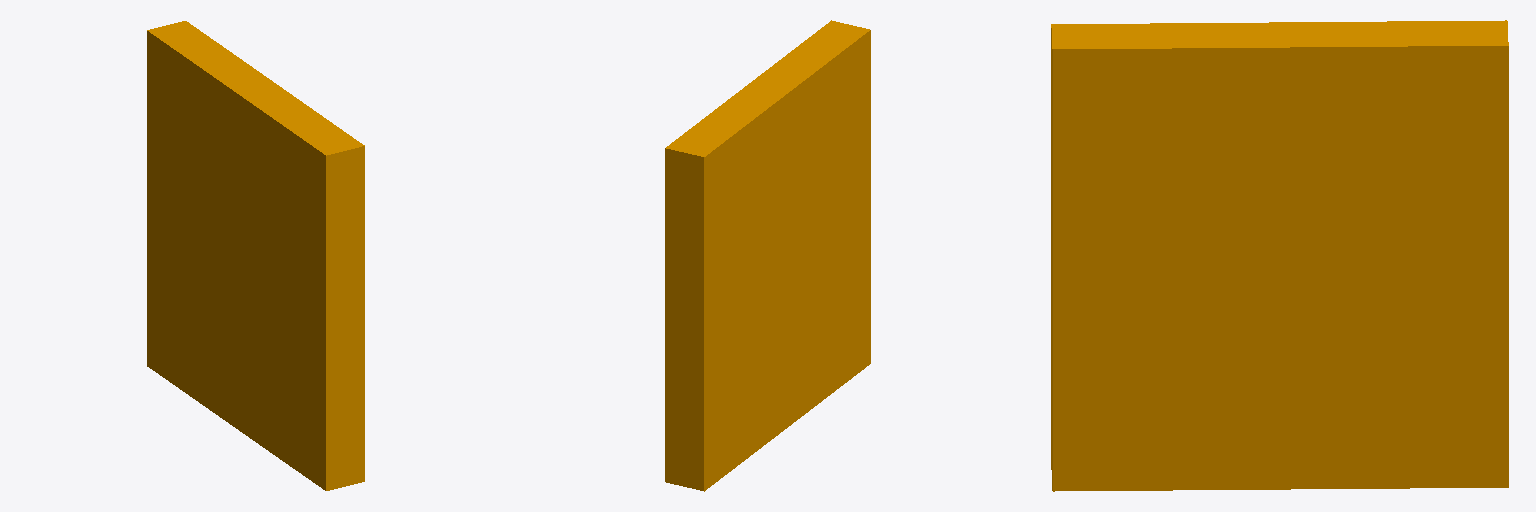
robot.urdf — aruco_wood_small:
<?xml version="1.0" ?>
<robot name="aruco_wood_small">
  <link name="base_link">
    <inertial>
      <mass value="0.0296311"/>
      <origin rpy="0 0 0.02" xyz="0 0 0"/>
      <inertia ixx="3.309e-05" ixy="0" ixz="0" iyy="1.791e-05" iyz="0" izz="1.571e-05"/>
    </inertial>
    <collision name="collision">
      <origin rpy="0 0 0.02" xyz="0 0 0"/>
      <geometry>
        <box size="0.010325 0.079083 0.084532"/>
      </geometry>
    </collision>
    <visual name="visual">
      <origin rpy="0 0 0.02" xyz="0 0 0"/>
      <geometry>
        <box size="0.010325 0.079083 0.084532"/>
      </geometry>
      <material>
          <script>
            <uri>file://scripts</uri>
            <uri>file://textures</uri>
            <name>aruco/standard</name>
          </script>
          <emissive>0 0 0 1</emissive>
          <shader type='vertex'>
            <normal_map>__default__</normal_map>
          </shader>
          <ambient>1 1 1 1</ambient>
          <diffuse>1 1 1 1</diffuse>
          <specular>0 0 0 1</specular>
        </material>
    </visual>
  </link>
</robot>

--- What the picture shows (computed from the rendered views, not written in the file) ---
Views: 3 orthographic renders of the robot side by side, from view 1: azimuth 30°, elevation 25°; view 2: azimuth 150°, elevation 25°; view 3: azimuth 270°, elevation 25°.
Model aruco_wood_small with 1 links and 0 joints (none), rooted at base_link, posed every joint at zero.
Links seen in each view (by area): view 1: base_link; view 2: base_link; view 3: base_link.
Link boxes in pixels (x1=…): base_link: x1=147, y1=21, x2=364, y2=490; base_link: x1=665, y1=20, x2=870, y2=491; base_link: x1=1051, y1=20, x2=1508, y2=491.
Size in the robot's own frame: 0.0119 by 0.0793 by 0.0845 metres.
Geometry: primitives only (box / cylinder / sphere), no mesh files.